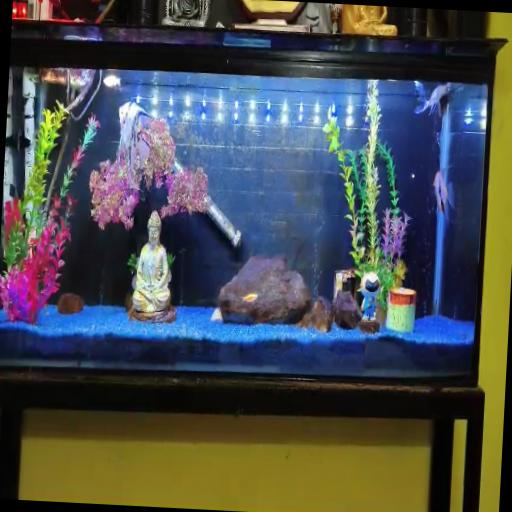Fish: (117, 102, 151, 186), (414, 80, 457, 117), (433, 169, 453, 223), (242, 294, 257, 303)
